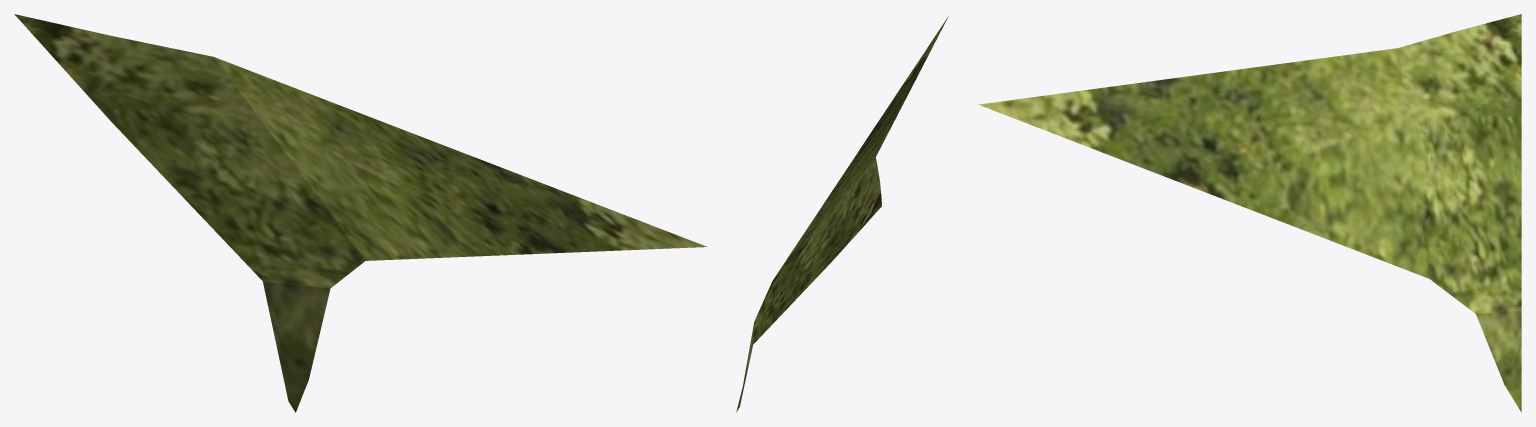
3 renders of one model, left to right at view 1: azimuth 30°, elevation 25°; view 2: azimuth 150°, elevation 25°; view 3: azimuth 270°, elevation 25°, orthographic. The views are drawn at different scales.
Bounding box in the file's own units: 1.07 × 1.7 × 2.72.
1 material, 1 textured.
